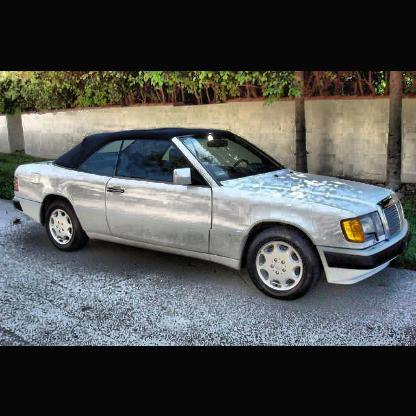Mercedes-Benz 300-Class Convertible 1993: (12, 125, 413, 305)
